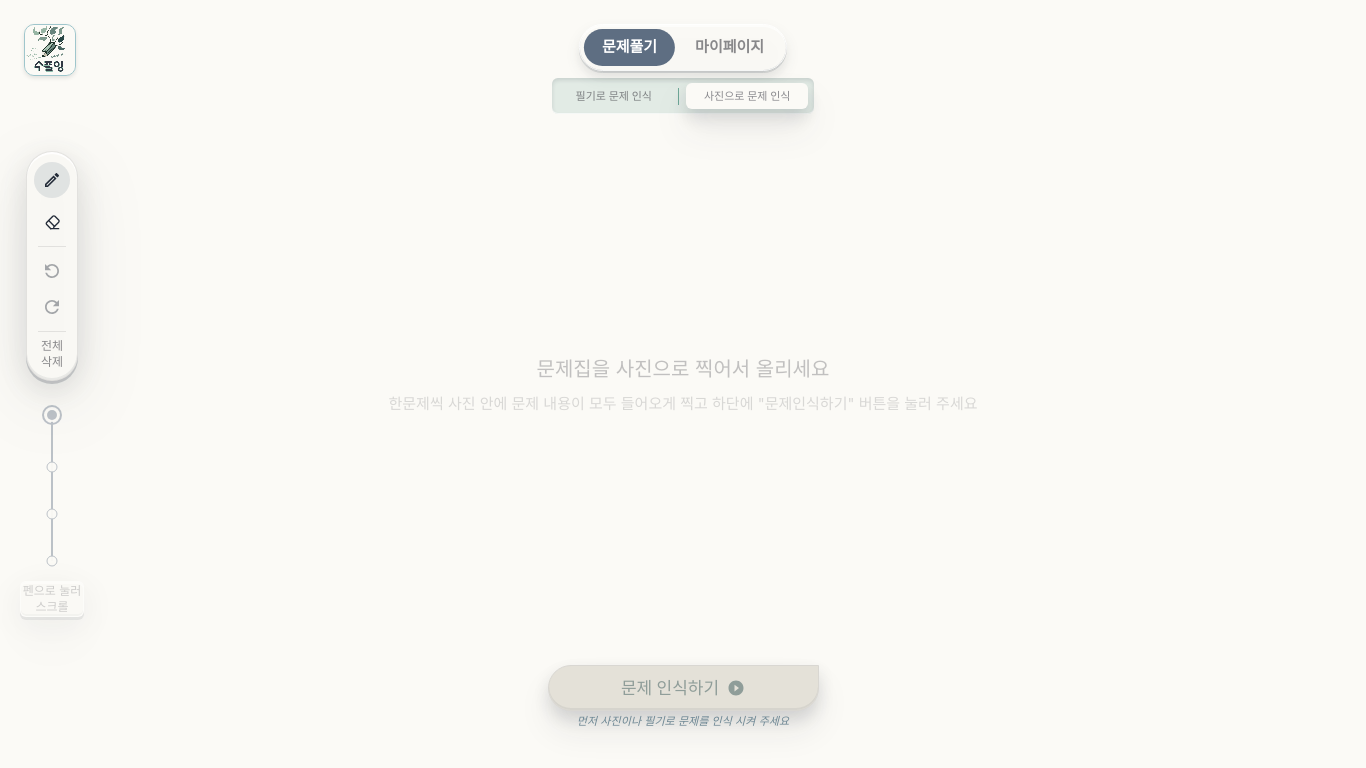
Test: recognize/solve API 연동(모킹) — Result Panel 표시 › 필기로 풀이 완료 후 결과 화면에서 '수정'을 누르면 안내 후 문제 인식·풀이가 보존된 채 /solve/pencilcanvas WORK 화면으로 돌아간다(2026-09 목적지 재정의)
The image size is (1366, 768).
Press the mouse on the drawing at x=683, y=384, box 0,0 -> 1365,767
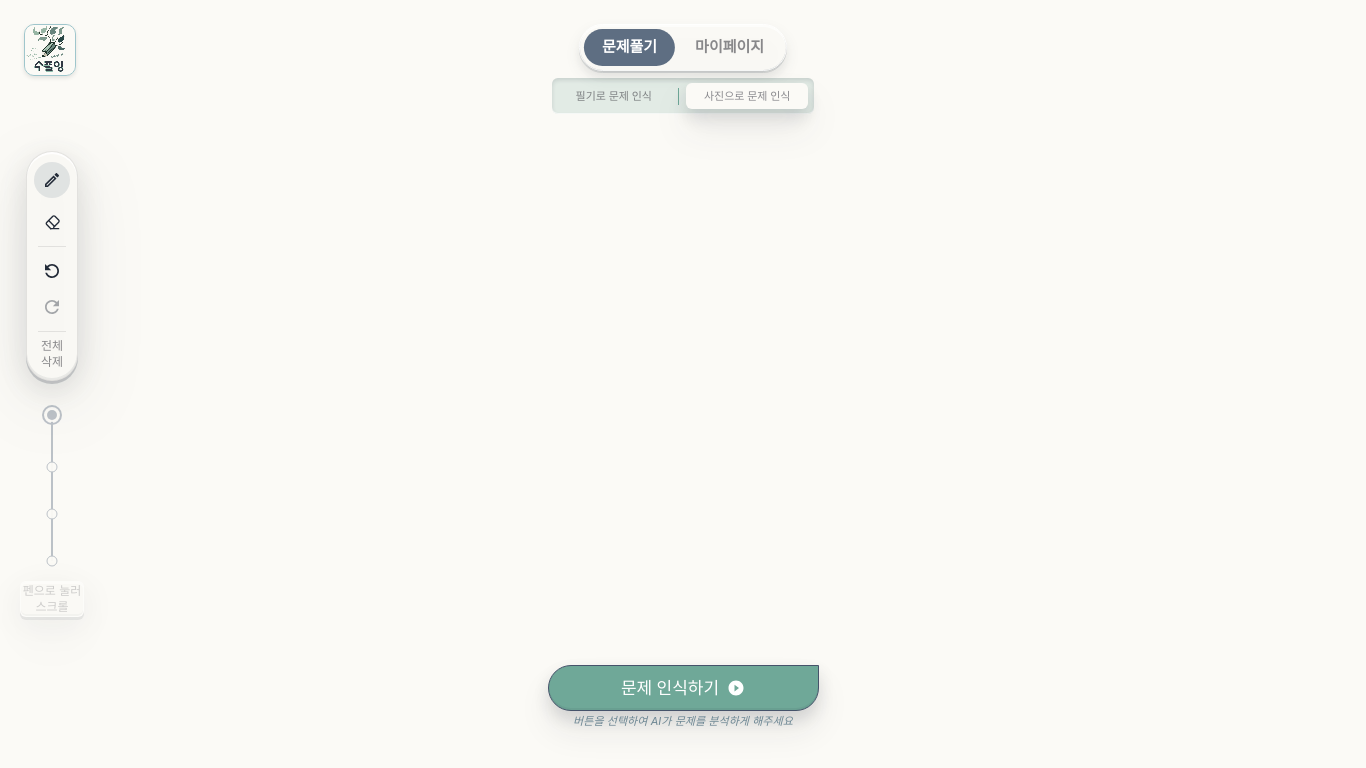
Click the button "문제 인식하기" at x=683, y=688, box 548,665 -> 818,711
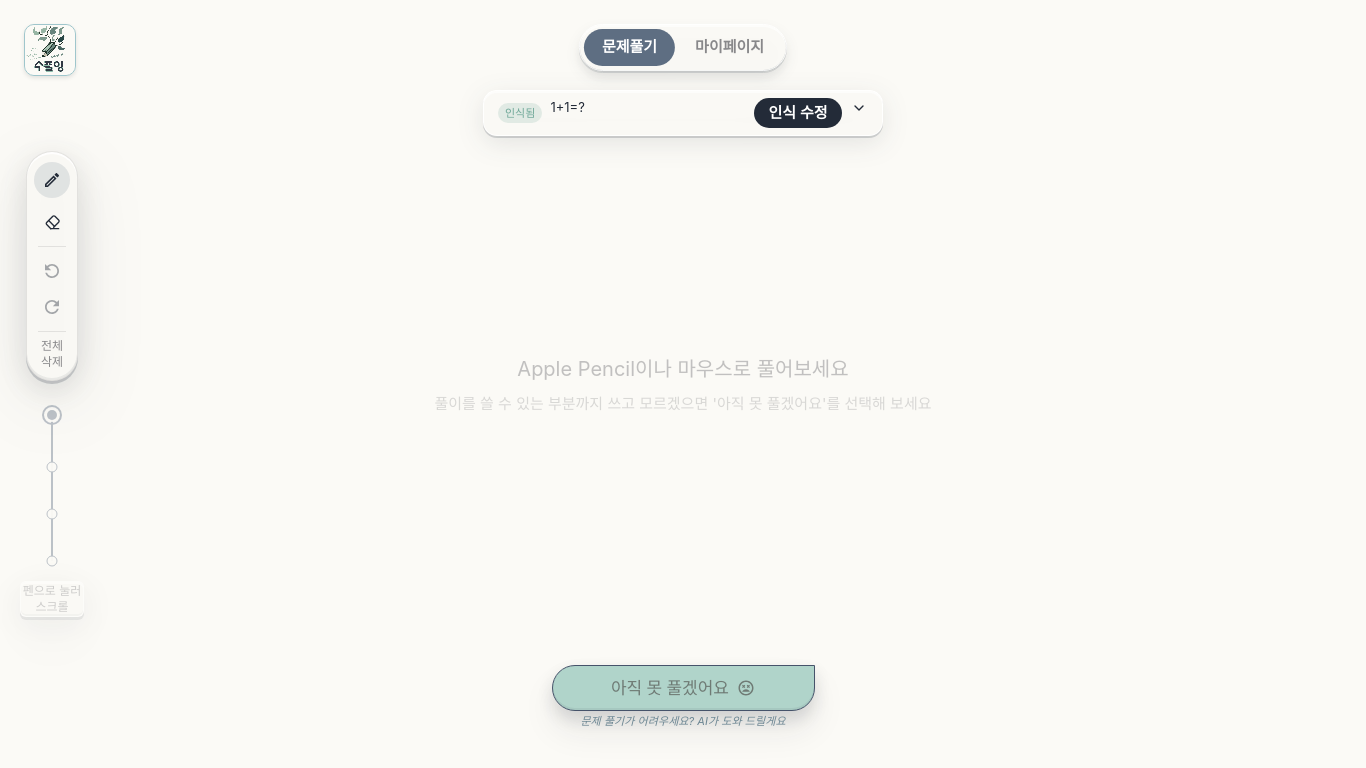
Result: the button "아직 못 풀겠어요" is enabled
Click the button "아직 못 풀겠어요" at x=683, y=688, box 552,665 -> 814,711
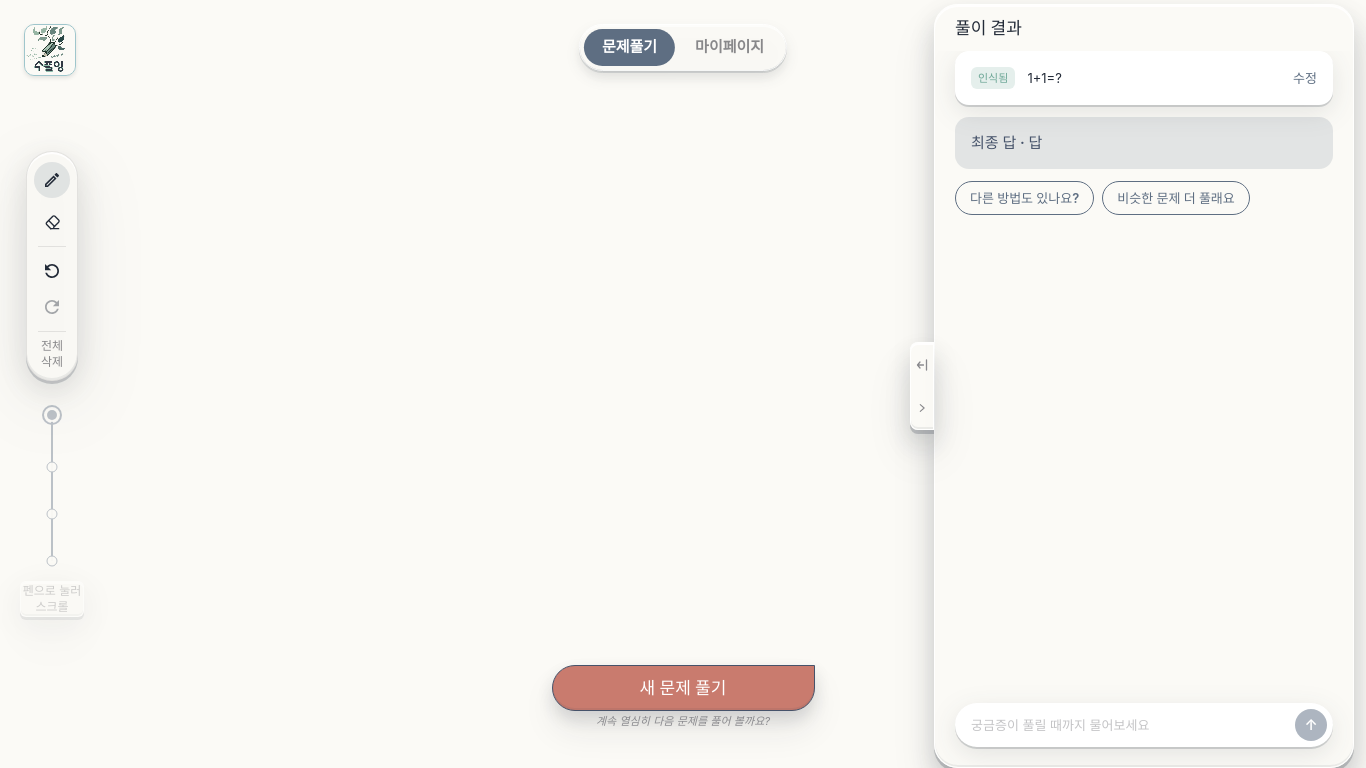
Result: the heading "풀이 결과" is shown at 955,17 -> 1022,39
Click the button "수정" at x=1305, y=78, box 1293,69 -> 1317,87
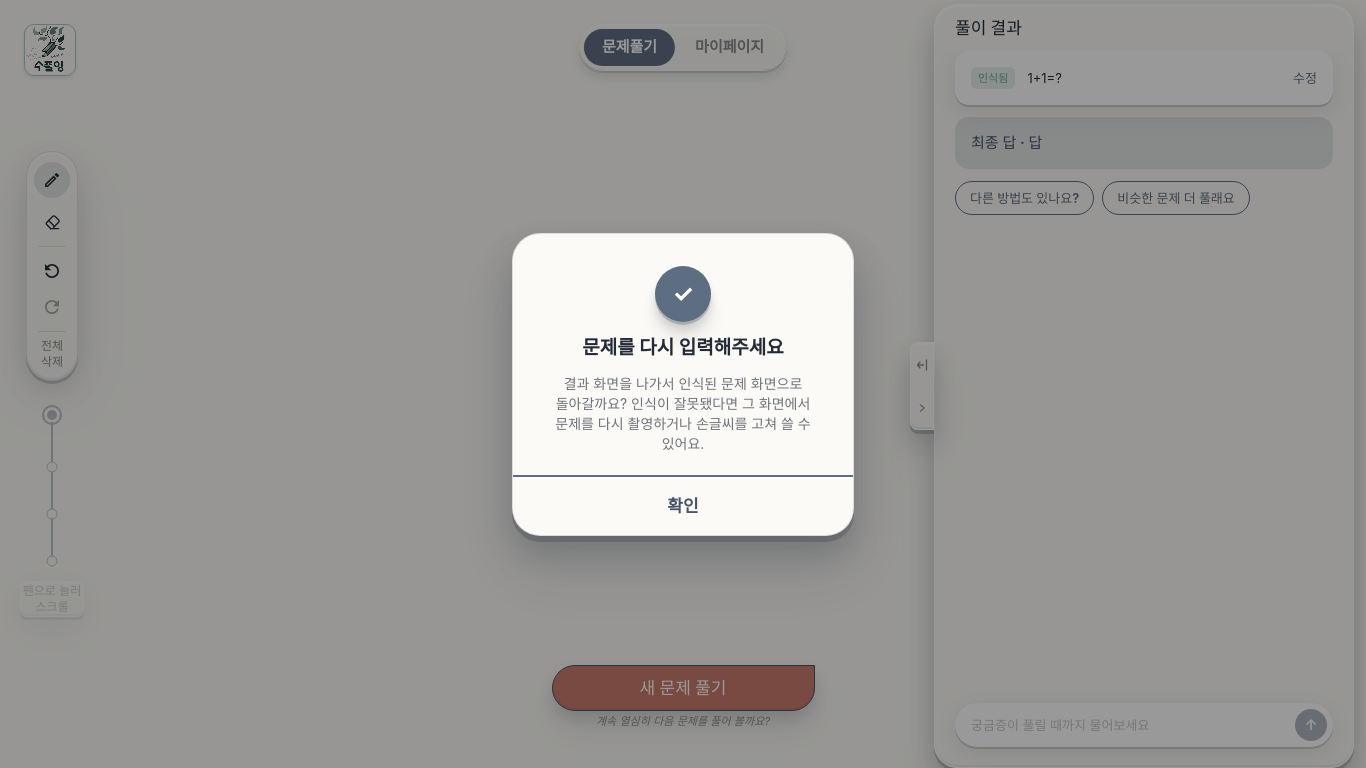
Result: the heading "문제를 다시 입력해주세요" is shown at 582,334 -> 784,362
Click the button "확인" at x=683, y=507, box 513,479 -> 853,534
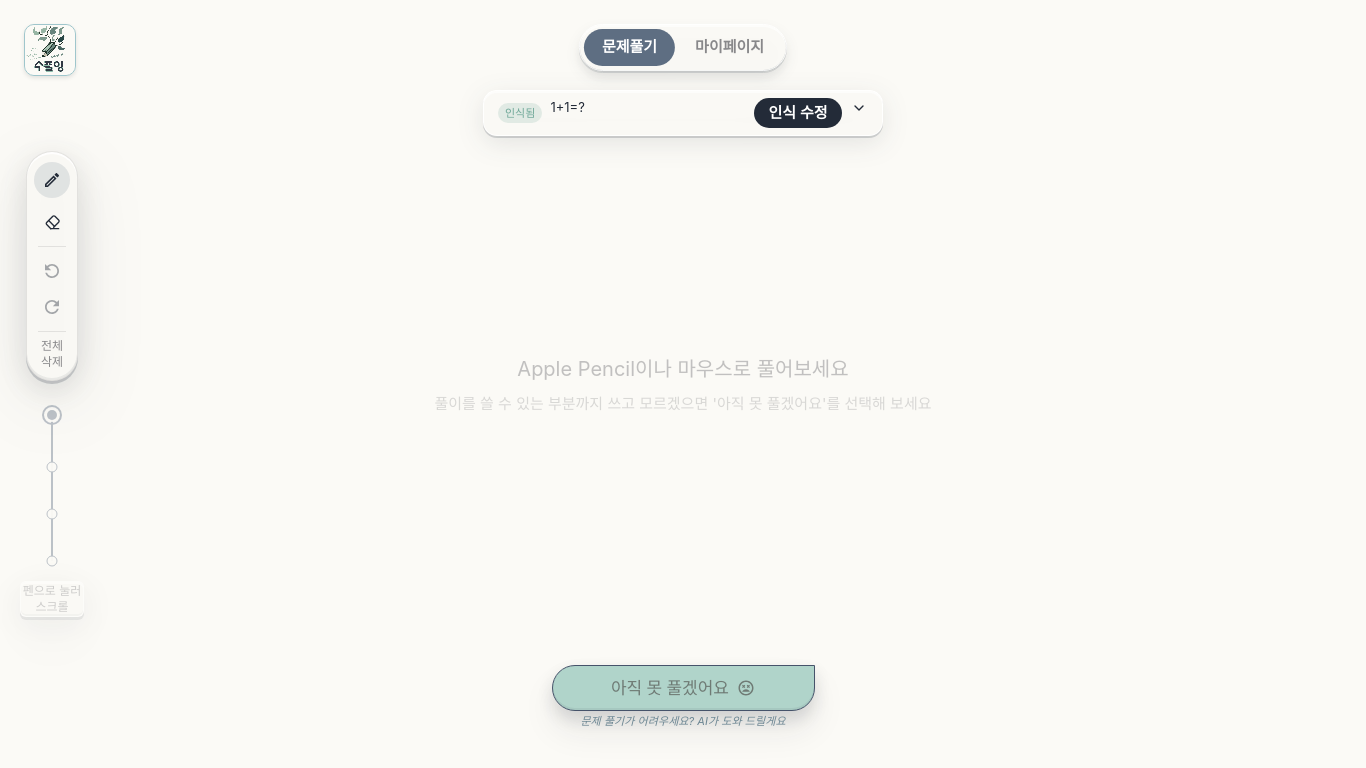
Result: the text "인식됨" is shown at 498,103 -> 542,123
Result: the button "아직 못 풀겠어요" is enabled at 552,665 -> 814,711
Result: the heading "풀이 결과" is gone
